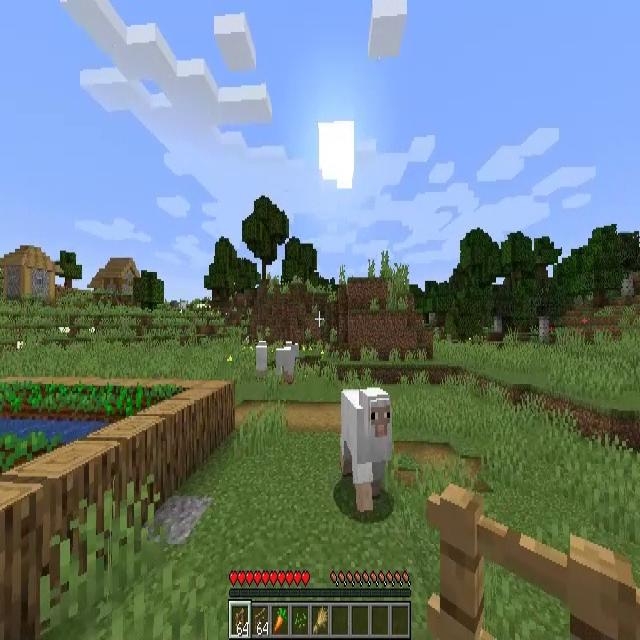sheep: (340, 388, 390, 513), (276, 345, 297, 381), (255, 342, 268, 382)
